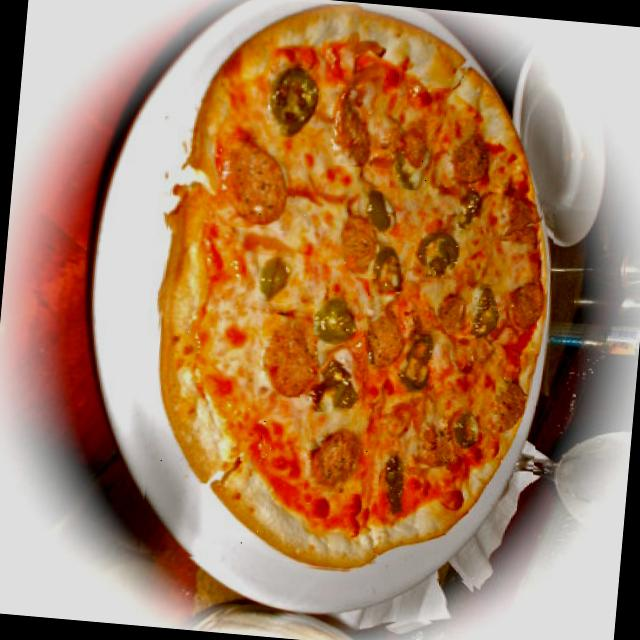Bell Pepper: (264, 64, 321, 140), (310, 292, 361, 346), (392, 330, 435, 394), (411, 228, 462, 280), (356, 187, 404, 237), (313, 364, 361, 414), (374, 452, 410, 517), (388, 136, 430, 190), (367, 243, 408, 298), (254, 252, 294, 304), (468, 285, 502, 340), (448, 408, 485, 454), (457, 188, 487, 230)
pizza: (158, 5, 545, 569)
tomato: (214, 138, 298, 232), (254, 321, 324, 403), (302, 424, 369, 495), (443, 128, 498, 192), (331, 95, 376, 168), (332, 212, 380, 278), (361, 306, 409, 372), (496, 192, 542, 254), (490, 372, 530, 434), (408, 418, 454, 471), (504, 276, 546, 331), (432, 286, 469, 336), (396, 124, 431, 166)
